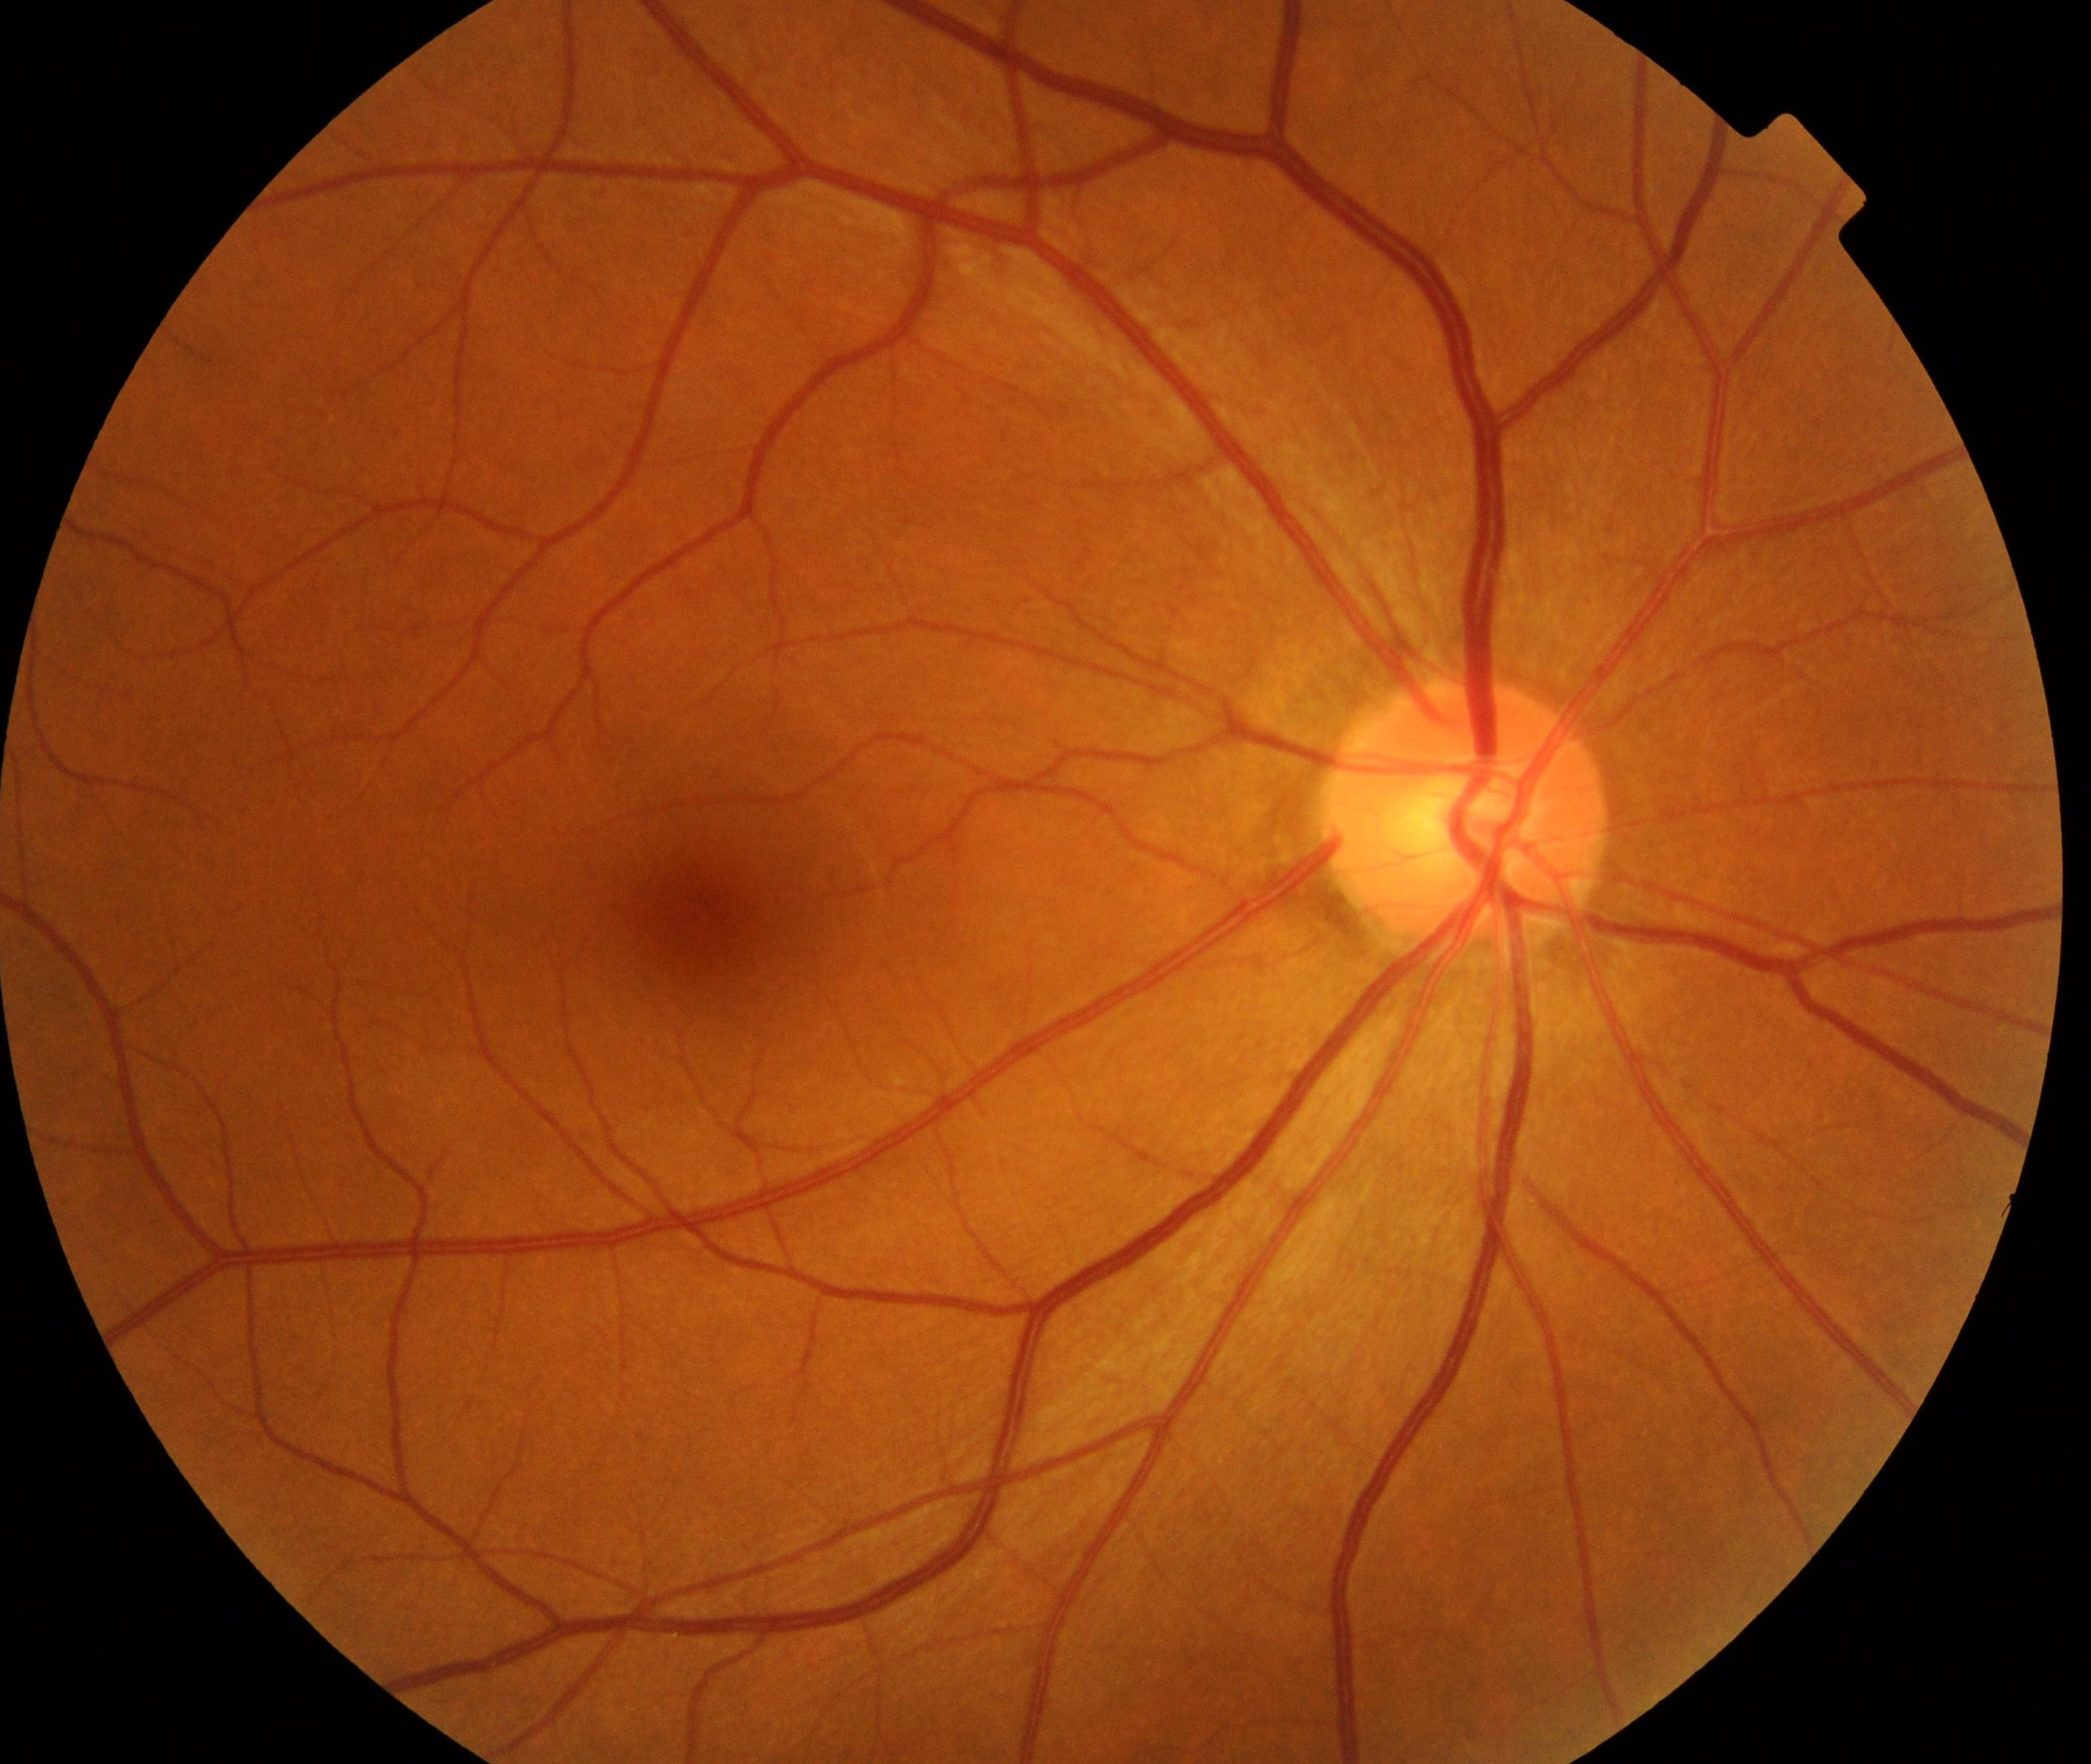Optic Cup: (1398, 763, 1526, 861)
Optic Disc: (1323, 674, 1606, 962)
